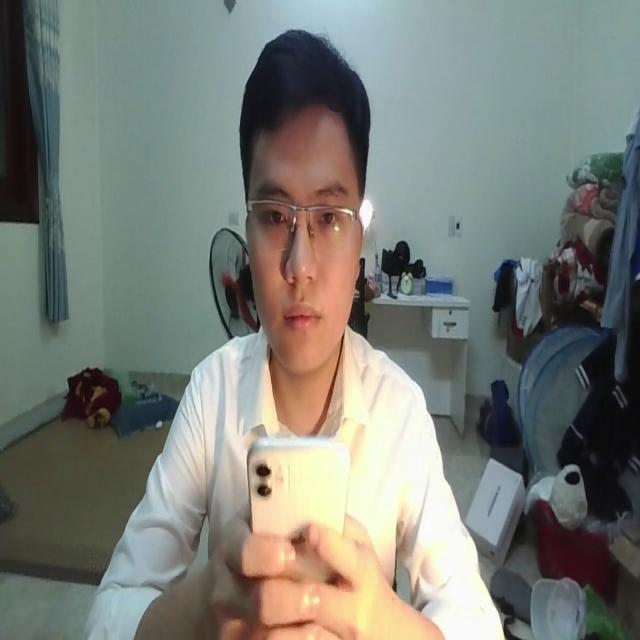phone: (248, 424, 346, 566)
student: (91, 22, 504, 640)
